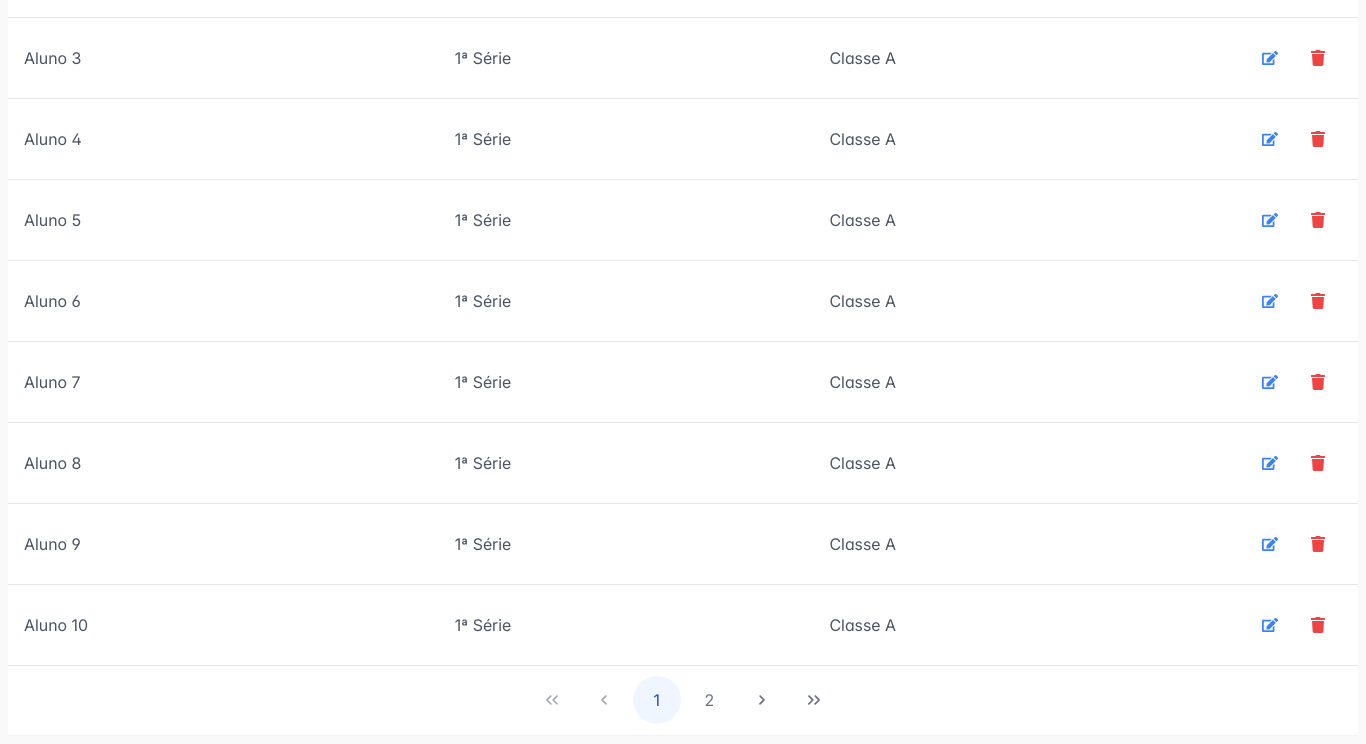
it: AlunoTable › deve permitir paginação corretamente
This screenshot has width=1366, height=744.
(page scrolled)
Check: the text "Aluno 10" is shown, box [8,585,439,666]
Check: the text "Aluno 11" is not shown
Step 1. Click the button named "Next Page" → {"x": 762, "y": 700}, box [738,676,786,724]
(page scrolled)
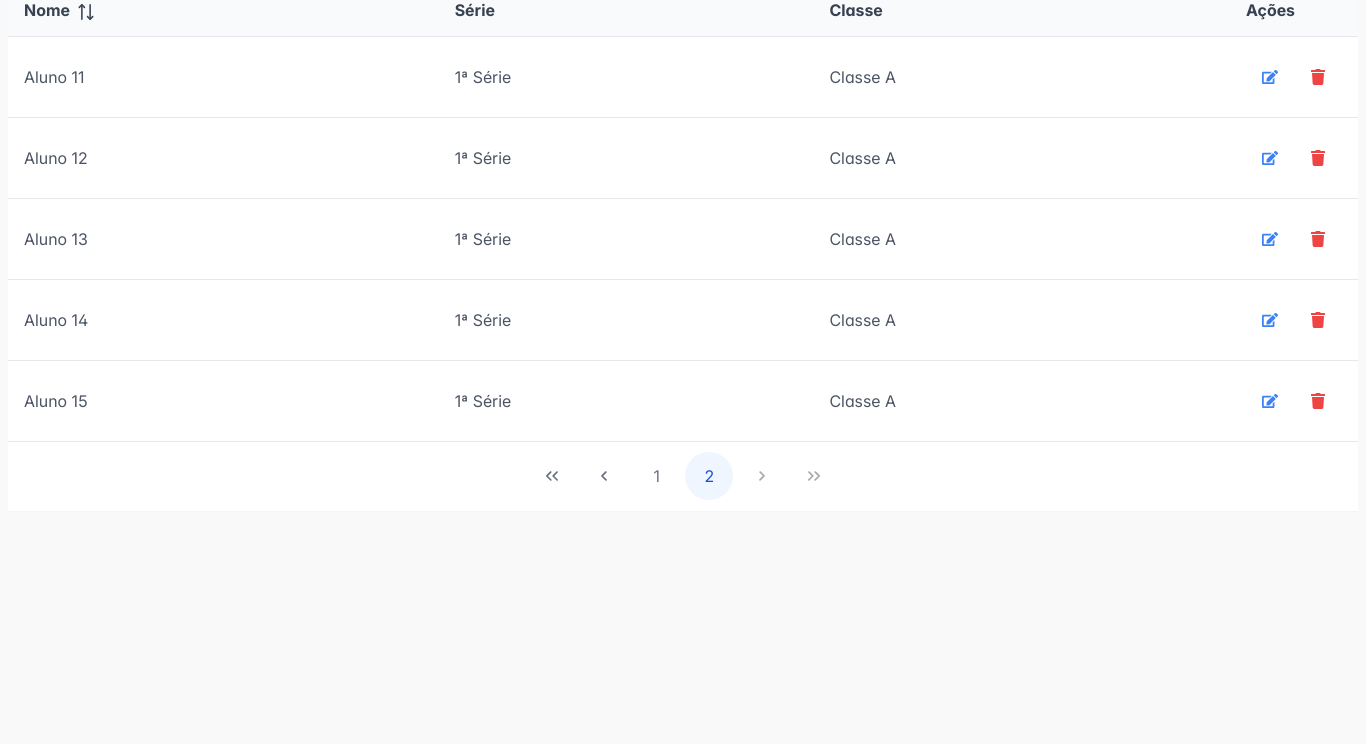
Check: the text "Aluno 11" is shown, box [8,37,439,118]
